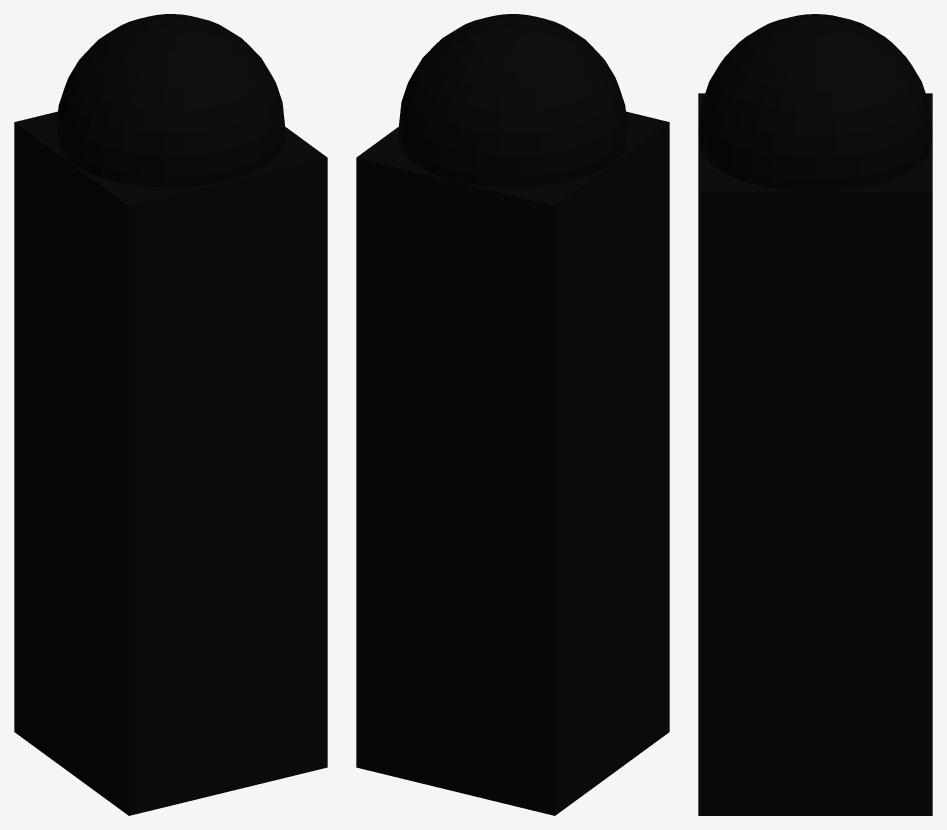
File: enemy_right_arm_down.obj
3 views of the same model, side by side, from view 1: azimuth 30°, elevation 25°; view 2: azimuth 150°, elevation 25°; view 3: azimuth 270°, elevation 25° (orthographic). The views are drawn at different scales.
Parts seen in each view (by area): view 1: 立方體.004, 球體.004_球體.005; view 2: 立方體.004, 球體.004_球體.005; view 3: 立方體.004, 球體.004_球體.005.
Part boxes in pixels (left/top/right/bottom): 立方體.004: left=14, top=111, right=327, bottom=815; 球體.004_球體.005: left=56, top=14, right=285, bottom=187; 立方體.004: left=356, top=111, right=669, bottom=815; 球體.004_球體.005: left=398, top=14, right=627, bottom=187; 立方體.004: left=698, top=93, right=932, bottom=815; 球體.004_球體.005: left=698, top=14, right=932, bottom=191.
Size of the model in its own units: 0.4103 by 1.43 by 0.4103.
2 materials, 2 textured.
